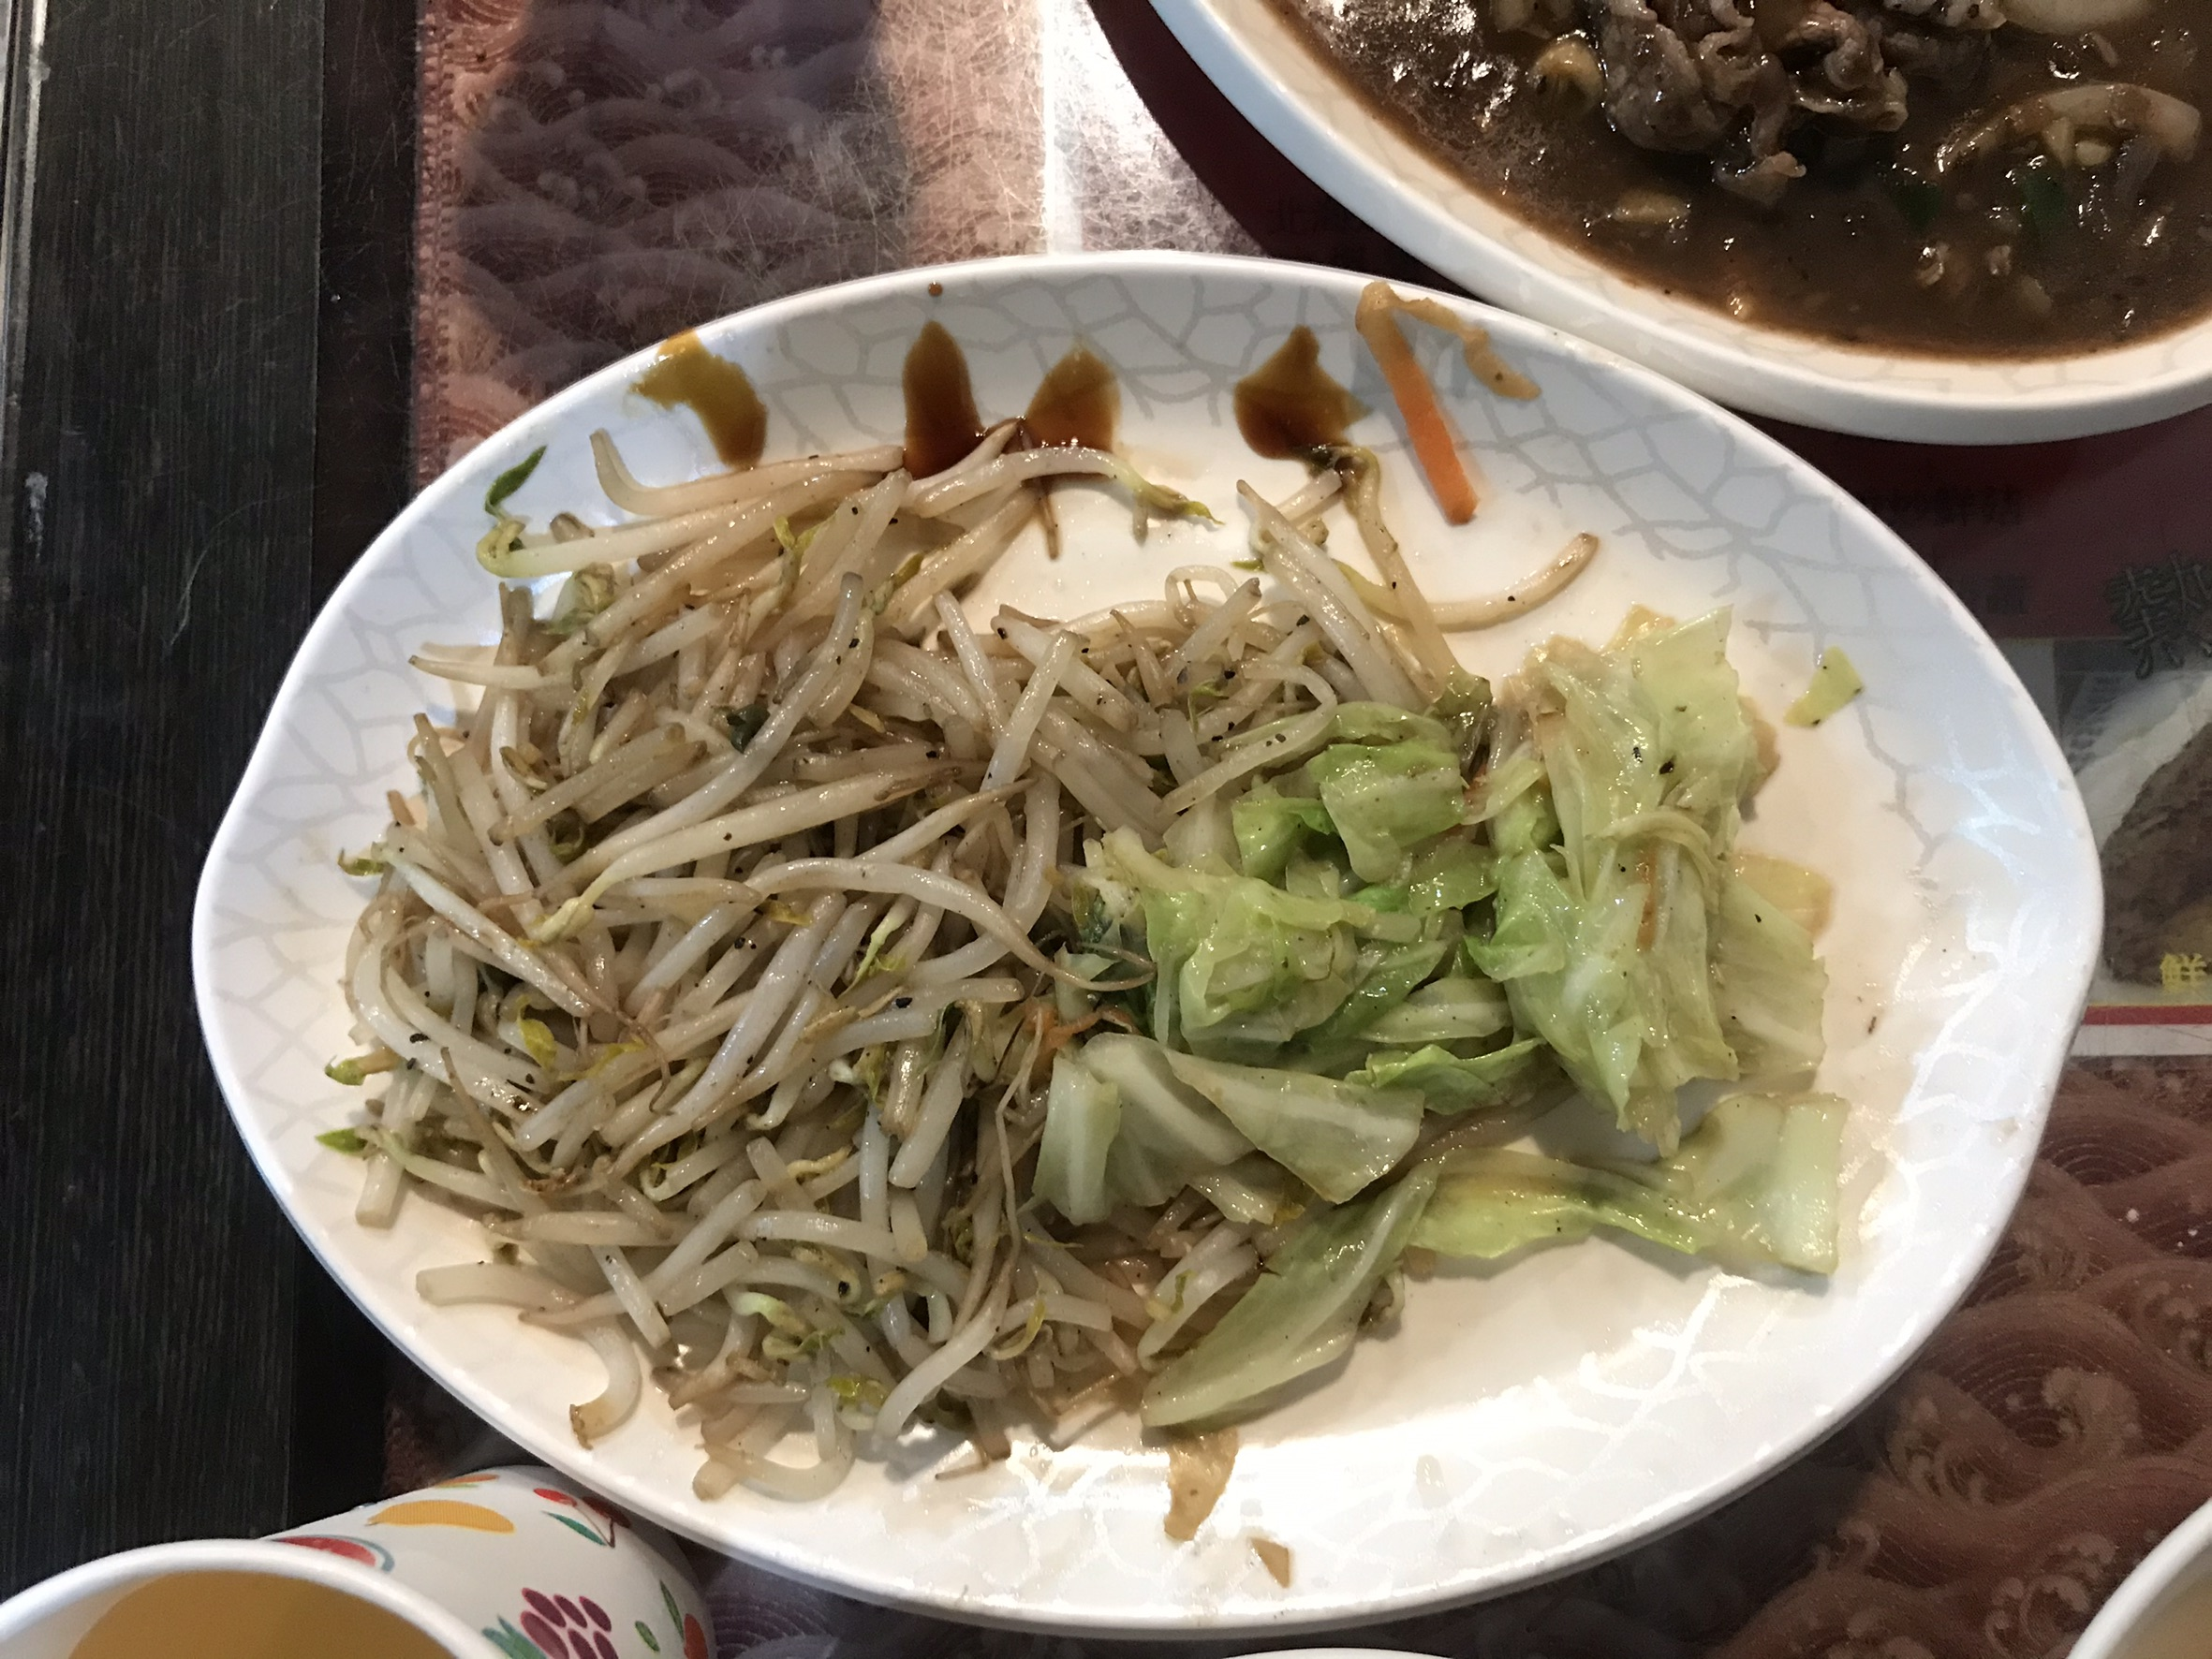chinese_cabbage: (1175, 605, 1825, 1359)
mung_bean_sprouts: (404, 601, 1159, 1413)
